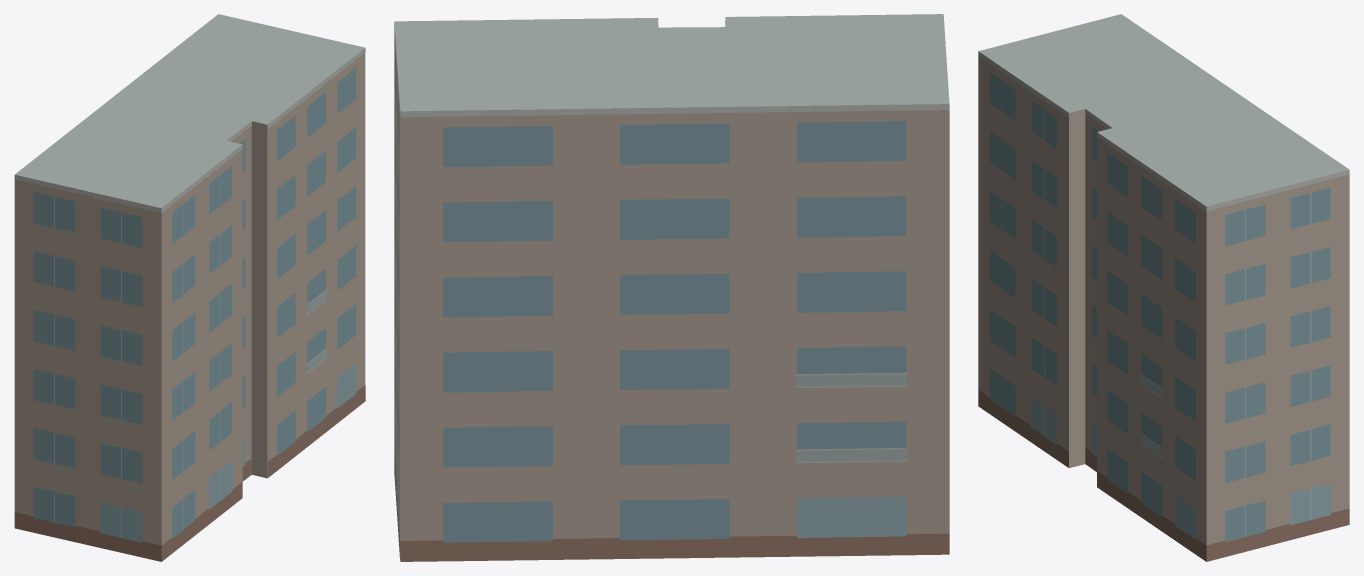
File: survey-upis-32777004.glb
3 renders of one model, left to right at view 1: azimuth 30°, elevation 25°; view 2: azimuth 150°, elevation 25°; view 3: azimuth 270°, elevation 25°, orthographic. The views are drawn at different scales.
Parts seen in each view (by area): view 1: survey-upis-32777004.tmp; view 2: survey-upis-32777004.tmp; view 3: survey-upis-32777004.tmp.
Boxes of the visible parts, box(x1,y1,x2,y2) form: survey-upis-32777004.tmp: box(14, 14, 365, 561); survey-upis-32777004.tmp: box(394, 14, 949, 561); survey-upis-32777004.tmp: box(978, 14, 1349, 561).
Bounding box in the file's own units: 21.3 × 18.3 × 17.34.
